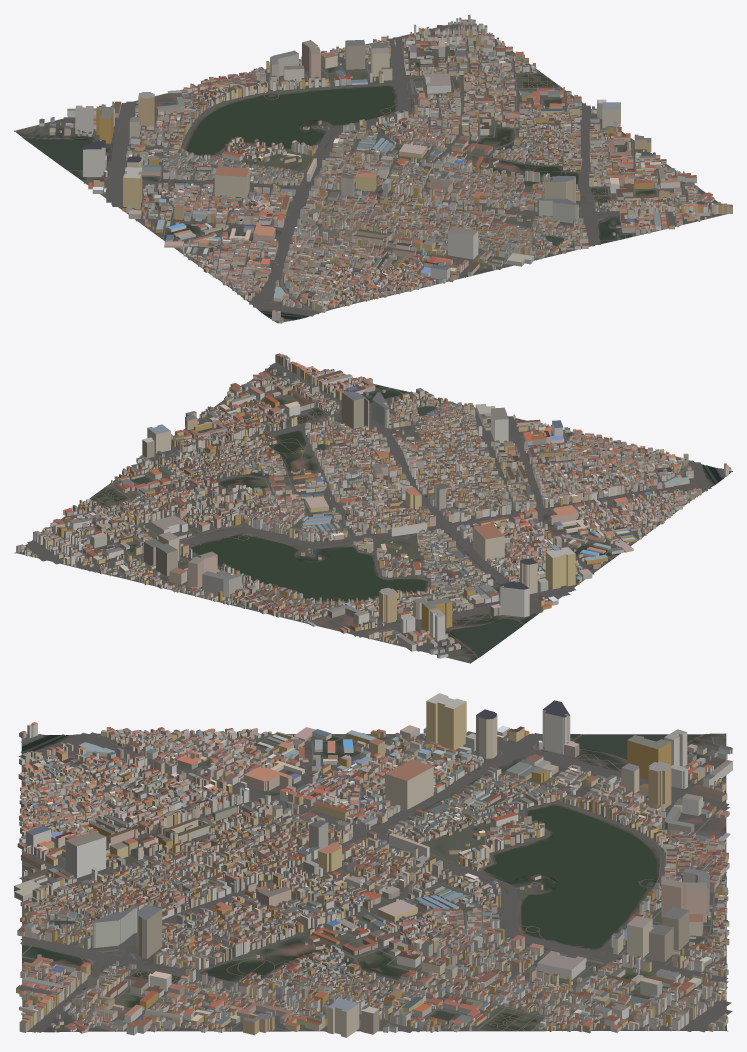
The picture shows the model from 3 angles, top to bottom: view 1: azimuth 30°, elevation 25°; view 2: azimuth 150°, elevation 25°; view 3: azimuth 270°, elevation 25°; orthographic projection. The views are drawn at different scales.
Visible parts, largest first — view 1: buildings, ground, roads, water; view 2: buildings, ground, roads, water; view 3: buildings, ground, roads, water.
Part boxes in pixels (x1,y1,x2,y2): buildings: (39, 14, 732, 323); ground: (14, 22, 728, 322); roads: (21, 25, 712, 323); water: (24, 86, 563, 319); buildings: (16, 353, 731, 658); ground: (15, 362, 732, 663); roads: (14, 362, 732, 658); water: (135, 369, 721, 656); buildings: (14, 693, 732, 1037); ground: (21, 733, 726, 1032); roads: (18, 731, 732, 1032); water: (20, 734, 700, 1031).
Size of the model in its own units: 1450 by 97.8 by 1431.
